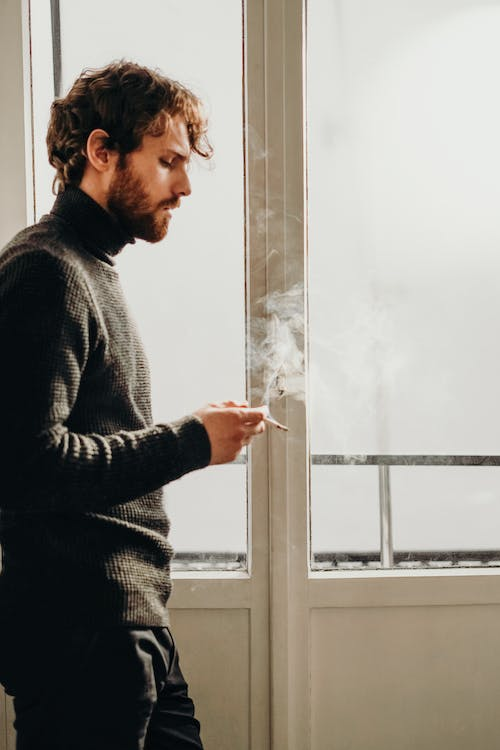cigarette: (263, 415, 291, 434)
